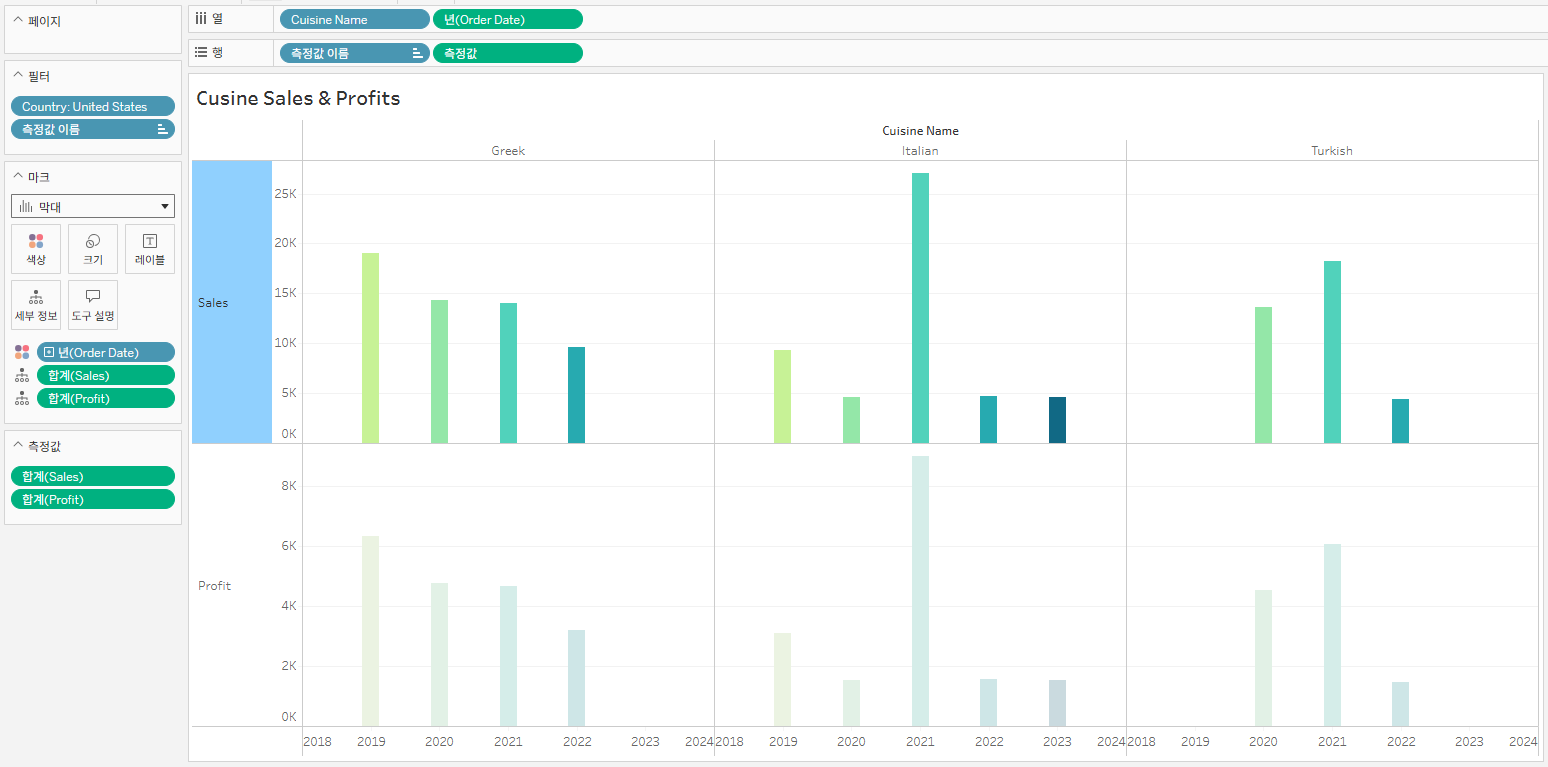

The page's visual inventory and layout, read from the dashboard file:
{"tool":"tableau","page":{"name":"Dashboard","canvas":[1100,750],"ordinal":0},"visuals":[{"type":"worksheet","title":"Sales(Cust)","mark":"Bar","rows":["Sales"],"cols":["Customer Name"],"box":[8,8,462,367]},{"type":"worksheet","title":"Bubble(Cust)","mark":"Circle","box":[470,8,462,367]},{"type":"legend","title":"Sales(Cust)","param":"[federated.0lgze0x0yxdovp18k8xqd1y83kji].[sum:Sales:qk]","box":[932,8,160,68]},{"type":"legend","title":"Bubble(Cust)","param":"[federated.0lgze0x0yxdovp18k8xqd1y83kji].[usr:Calculation_0014371251740695:qk]","box":[932,76,160,26]},{"type":"legend","title":"Profit(year)","param":"[federated.0lgze0x0yxdovp18k8xqd1y83kji].[sum:Calculation_0014371247775762:qk]","box":[932,102,160,68]},{"type":"legend","title":"SalesProfits","param":"[federated.0lgze0x0yxdovp18k8xqd1y83kji].[yr:Order Date:ok]","box":[932,170,160,127]},{"type":"worksheet","title":"Profit(year)","mark":"Line","rows":["Calculation_0014371247775762"],"cols":["Order Date"],"box":[8,375,462,367]},{"type":"worksheet","title":"SalesProfits","mark":"Bar","cols":["Cuisine Name","Order Date"],"box":[470,375,462,367]}]}

Visuals, with their boxes on the page's 1100x750 design canvas (x1, y1, x2, y2). These are canvas units, not pixel positions in the 1548x767 screenshot, which may show the page scaled, cropped or inside an application window:
"Sales(Cust)" worksheet (Bar marks): detection(8, 8, 470, 375)
"Bubble(Cust)" worksheet (Circle marks): detection(470, 8, 932, 375)
"Sales(Cust)" legend: detection(932, 8, 1092, 76)
"Bubble(Cust)" legend: detection(932, 76, 1092, 102)
"Profit(year)" legend: detection(932, 102, 1092, 170)
"SalesProfits" legend: detection(932, 170, 1092, 297)
"Profit(year)" worksheet (Line marks): detection(8, 375, 470, 742)
"SalesProfits" worksheet (Bar marks): detection(470, 375, 932, 742)
